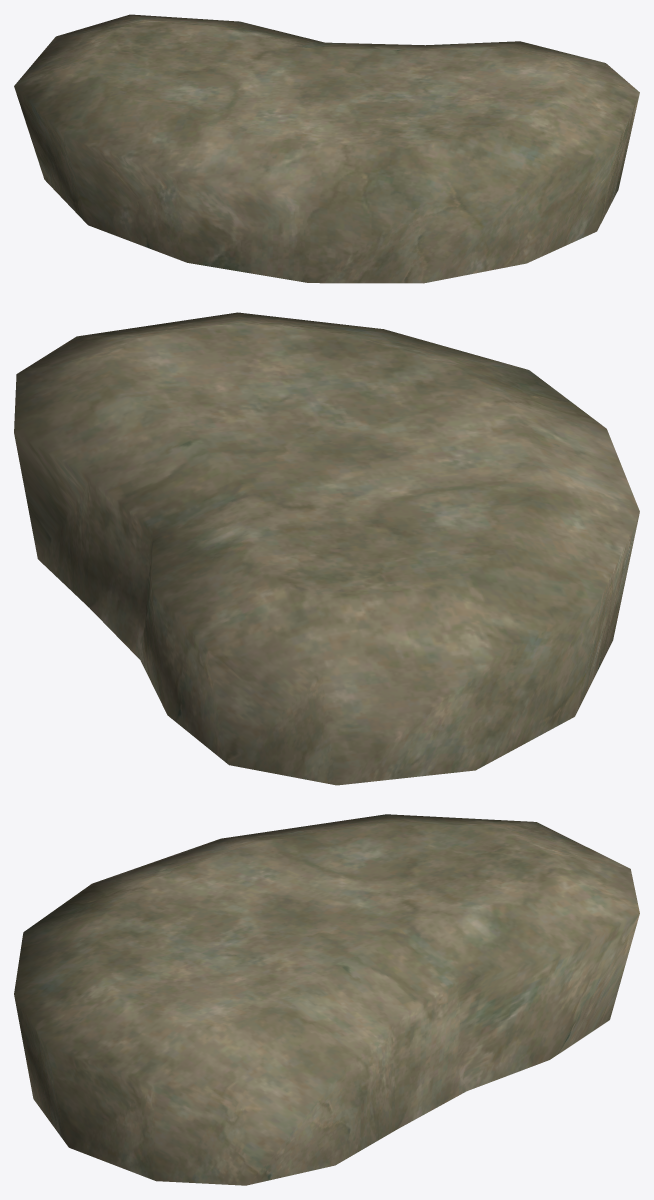
The model's file is EKH_CAVERNS_PS_CA_ROCK_003.fbx.
The picture shows the model from 3 angles, top to bottom: view 1: azimuth 30°, elevation 25°; view 2: azimuth 150°, elevation 25°; view 3: azimuth 270°, elevation 25°; orthographic projection. The views are drawn at different scales.
Parts seen in each view (by area): view 1: EKH_CAVERNS_PS_CA_ROCK_003; view 2: EKH_CAVERNS_PS_CA_ROCK_003; view 3: EKH_CAVERNS_PS_CA_ROCK_003.
Boxes of the visible parts, left/top/right/bottom form: EKH_CAVERNS_PS_CA_ROCK_003: left=14, top=14, right=639, bottom=283; EKH_CAVERNS_PS_CA_ROCK_003: left=14, top=312, right=639, bottom=785; EKH_CAVERNS_PS_CA_ROCK_003: left=14, top=814, right=639, bottom=1185.
Bounding box in the file's own units: 47772 × 10913 × 46109.
1 material, 1 textured.
